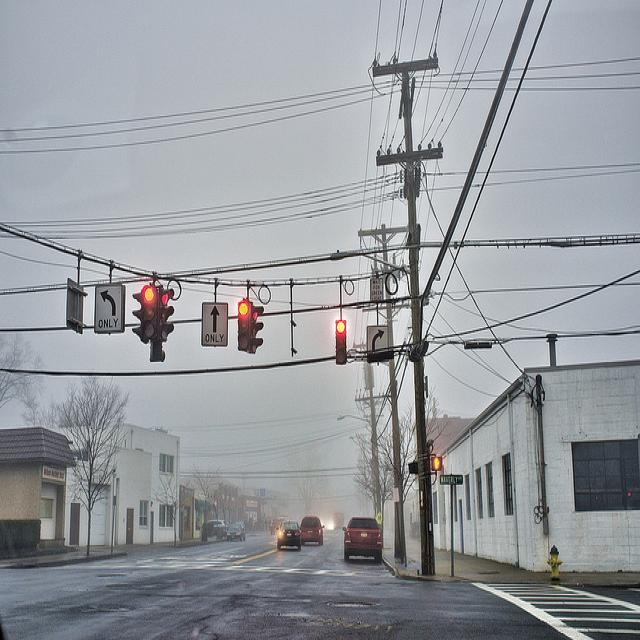fire_hydrant: (546, 544, 563, 582)
